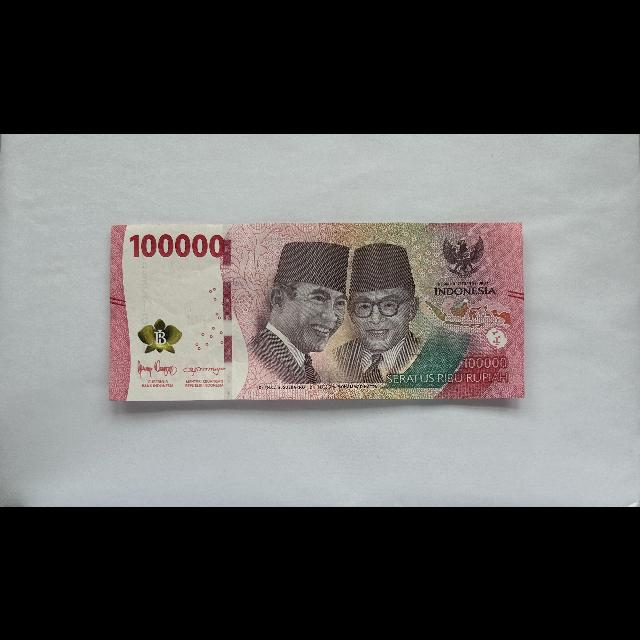Asli-100k: (108, 220, 528, 402)
Tinta-Asli-100k: (137, 317, 184, 353)
